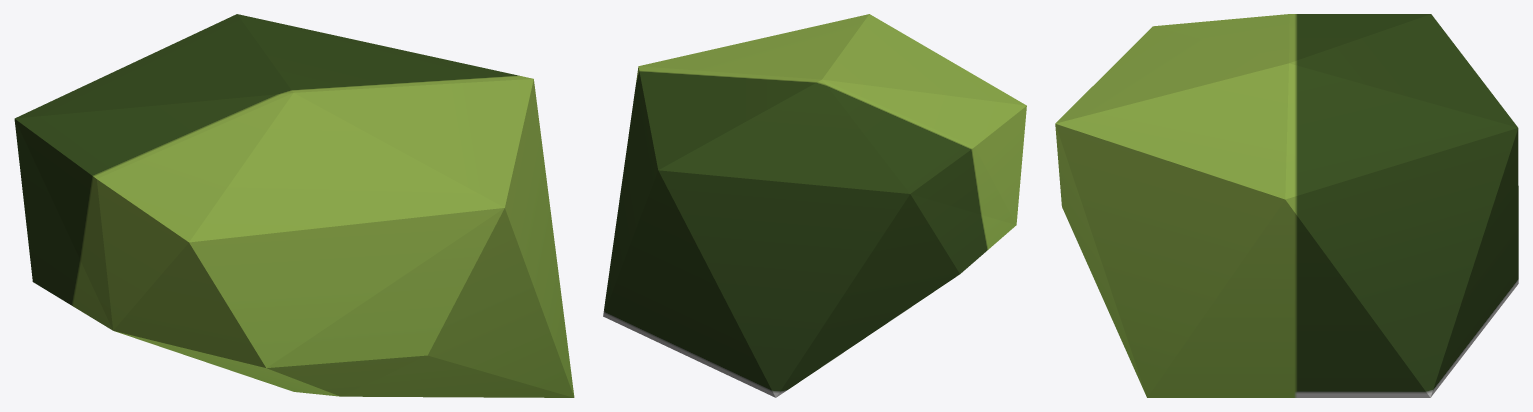
The model's file is Rock_11.fbx.
3 views of the same model, side by side, from view 1: azimuth 30°, elevation 25°; view 2: azimuth 150°, elevation 25°; view 3: azimuth 270°, elevation 25° (orthographic). The views are drawn at different scales.
Parts seen in each view (by area): view 1: Rock_11; view 2: Rock_11; view 3: Rock_11.
Part boxes in pixels (x1,y1,x2,y2): Rock_11: (14, 14, 574, 397); Rock_11: (603, 14, 1026, 397); Rock_11: (1055, 14, 1518, 397).
Bounding box in the file's own units: 1.56 × 0.9735 × 1.59.
